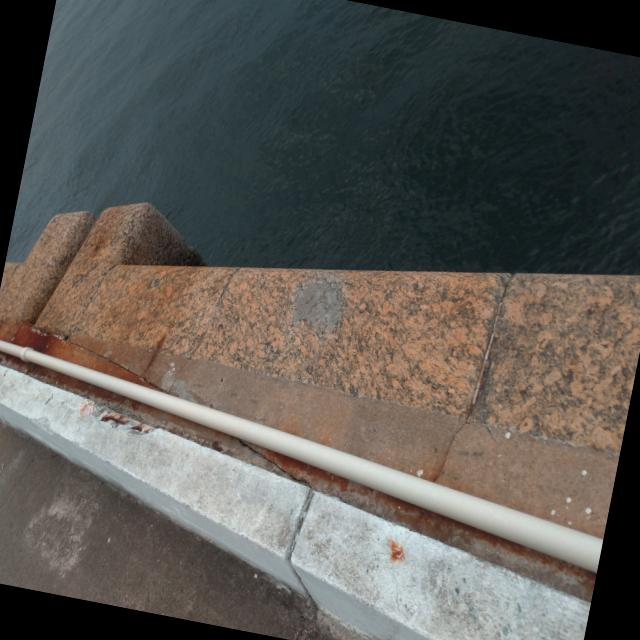gas: (0, 338, 604, 573)
